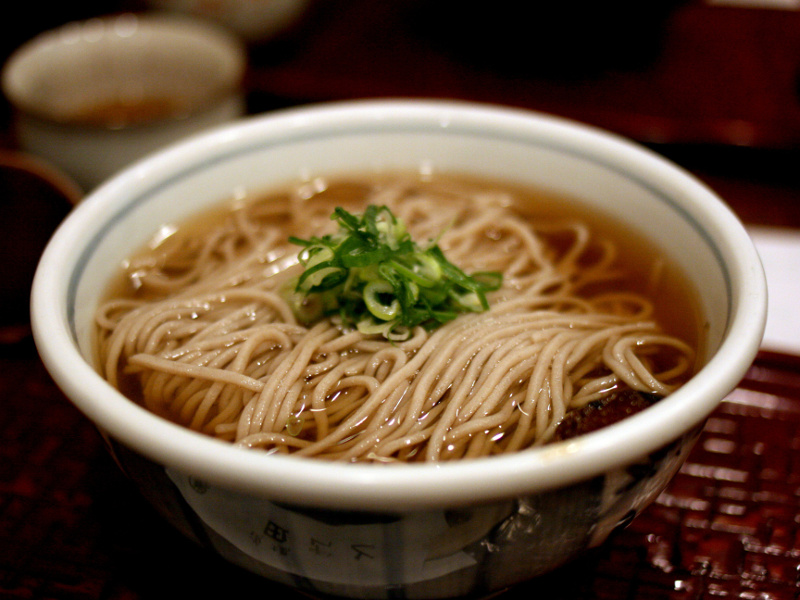Soba: (117, 170, 705, 461)
